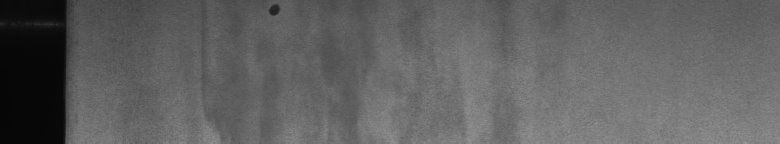fi: (264, 4, 288, 24)
